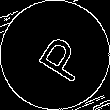P_NW: (24, 26, 86, 84)
